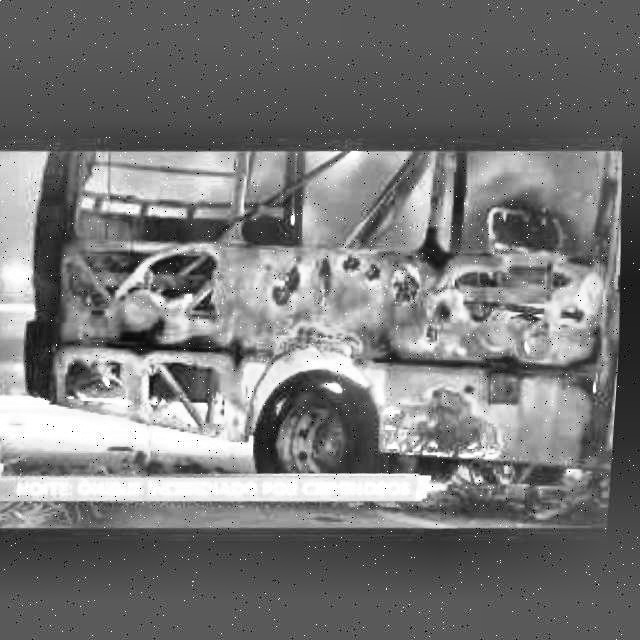Fire: (301, 338, 390, 391)
